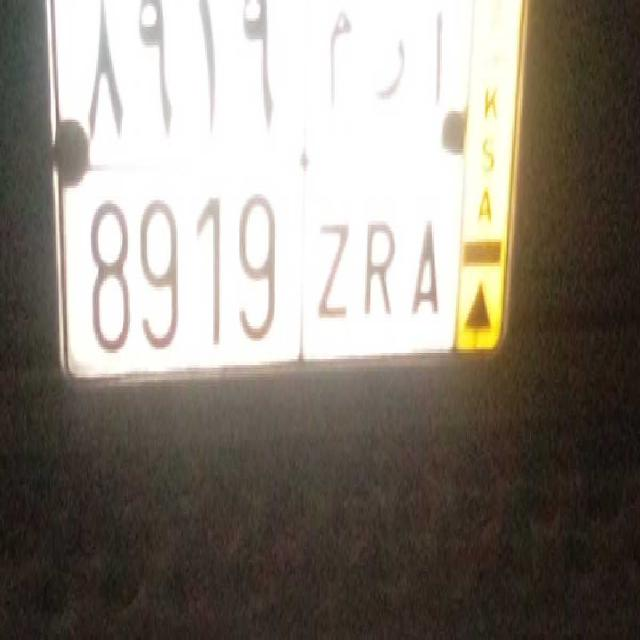license_plate: (80, 158, 452, 380)
